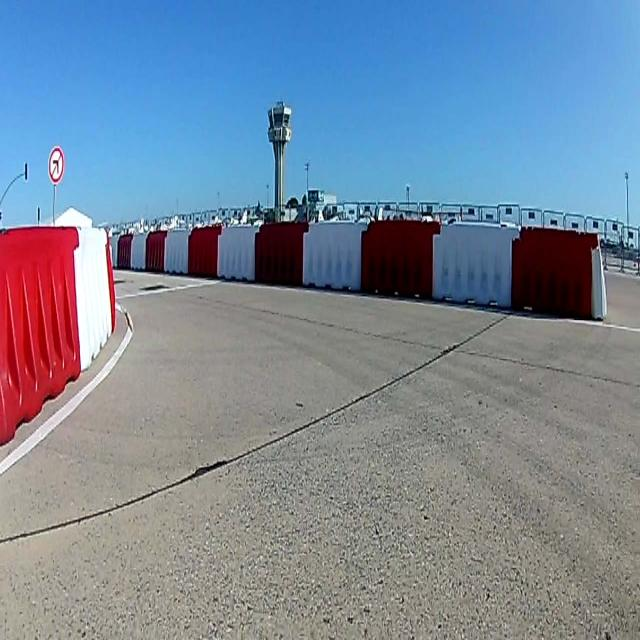soladonulmez: (49, 146, 63, 183)
